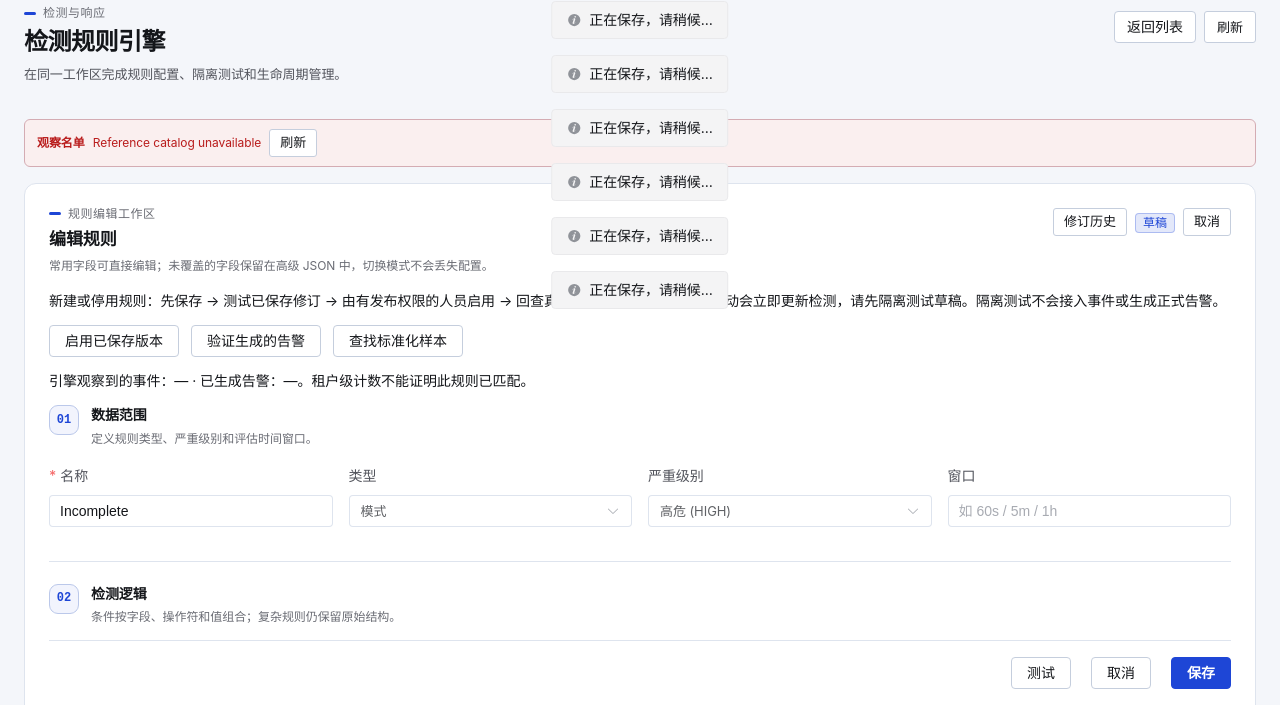
Test case: rule editor identity › reports reference catalog errors and refuses to silently remove incomplete conditions
Click the button "保存".
click(1201, 673)  # box [1171,657,1231,689]
(page scrolled)
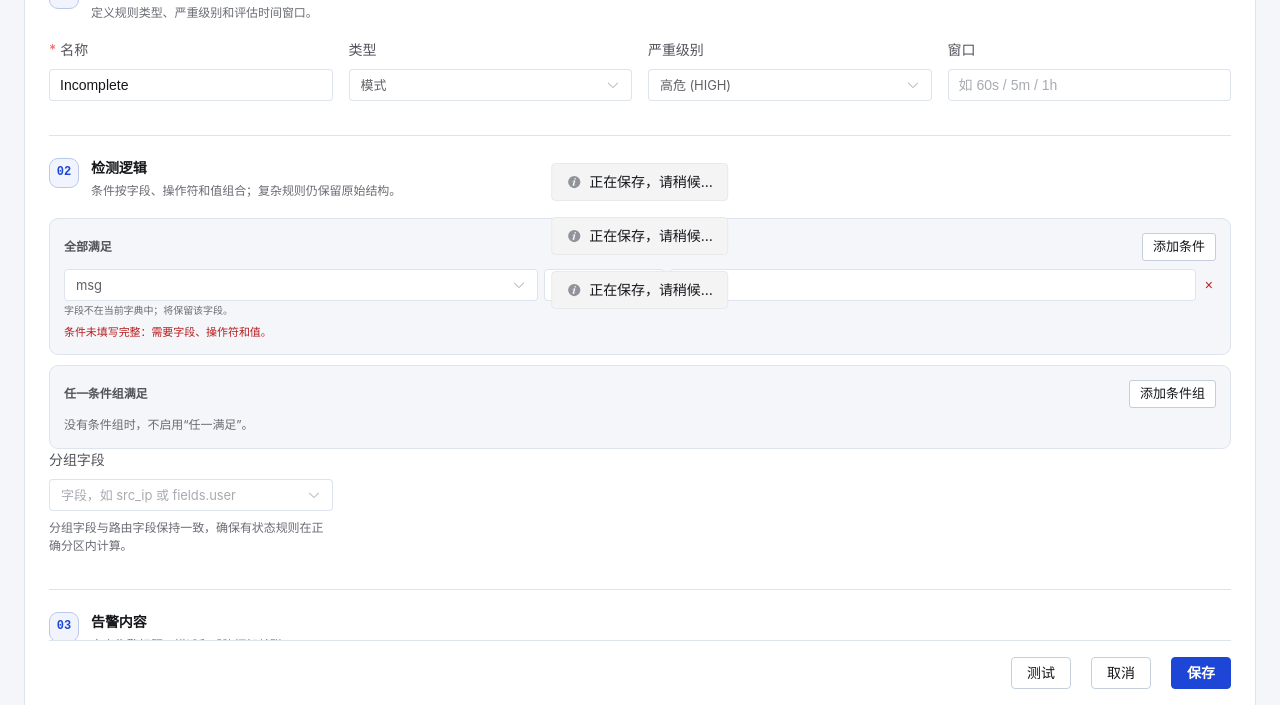
Check: the message with class "field-condition-error" shows "条件未填写完整", box [64,325,272,339]
Check: the element with class "field-condition-row-invalid" is shown, box [64,269,1216,340]
